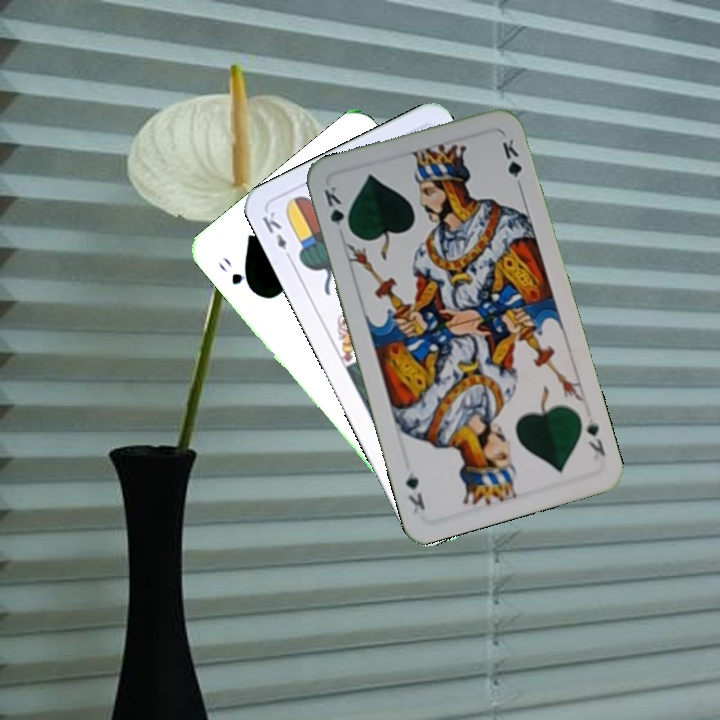EK: (257, 207, 296, 264)
GK: (320, 182, 354, 237), (582, 414, 608, 462)
GO: (214, 253, 258, 296)
